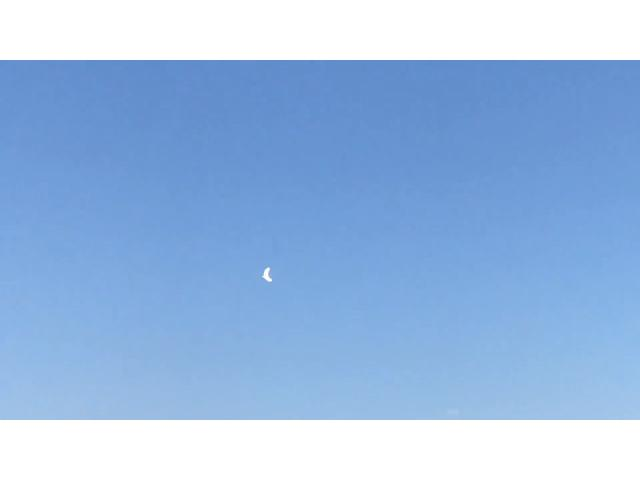Anti-Drone: (252, 256, 286, 292)
